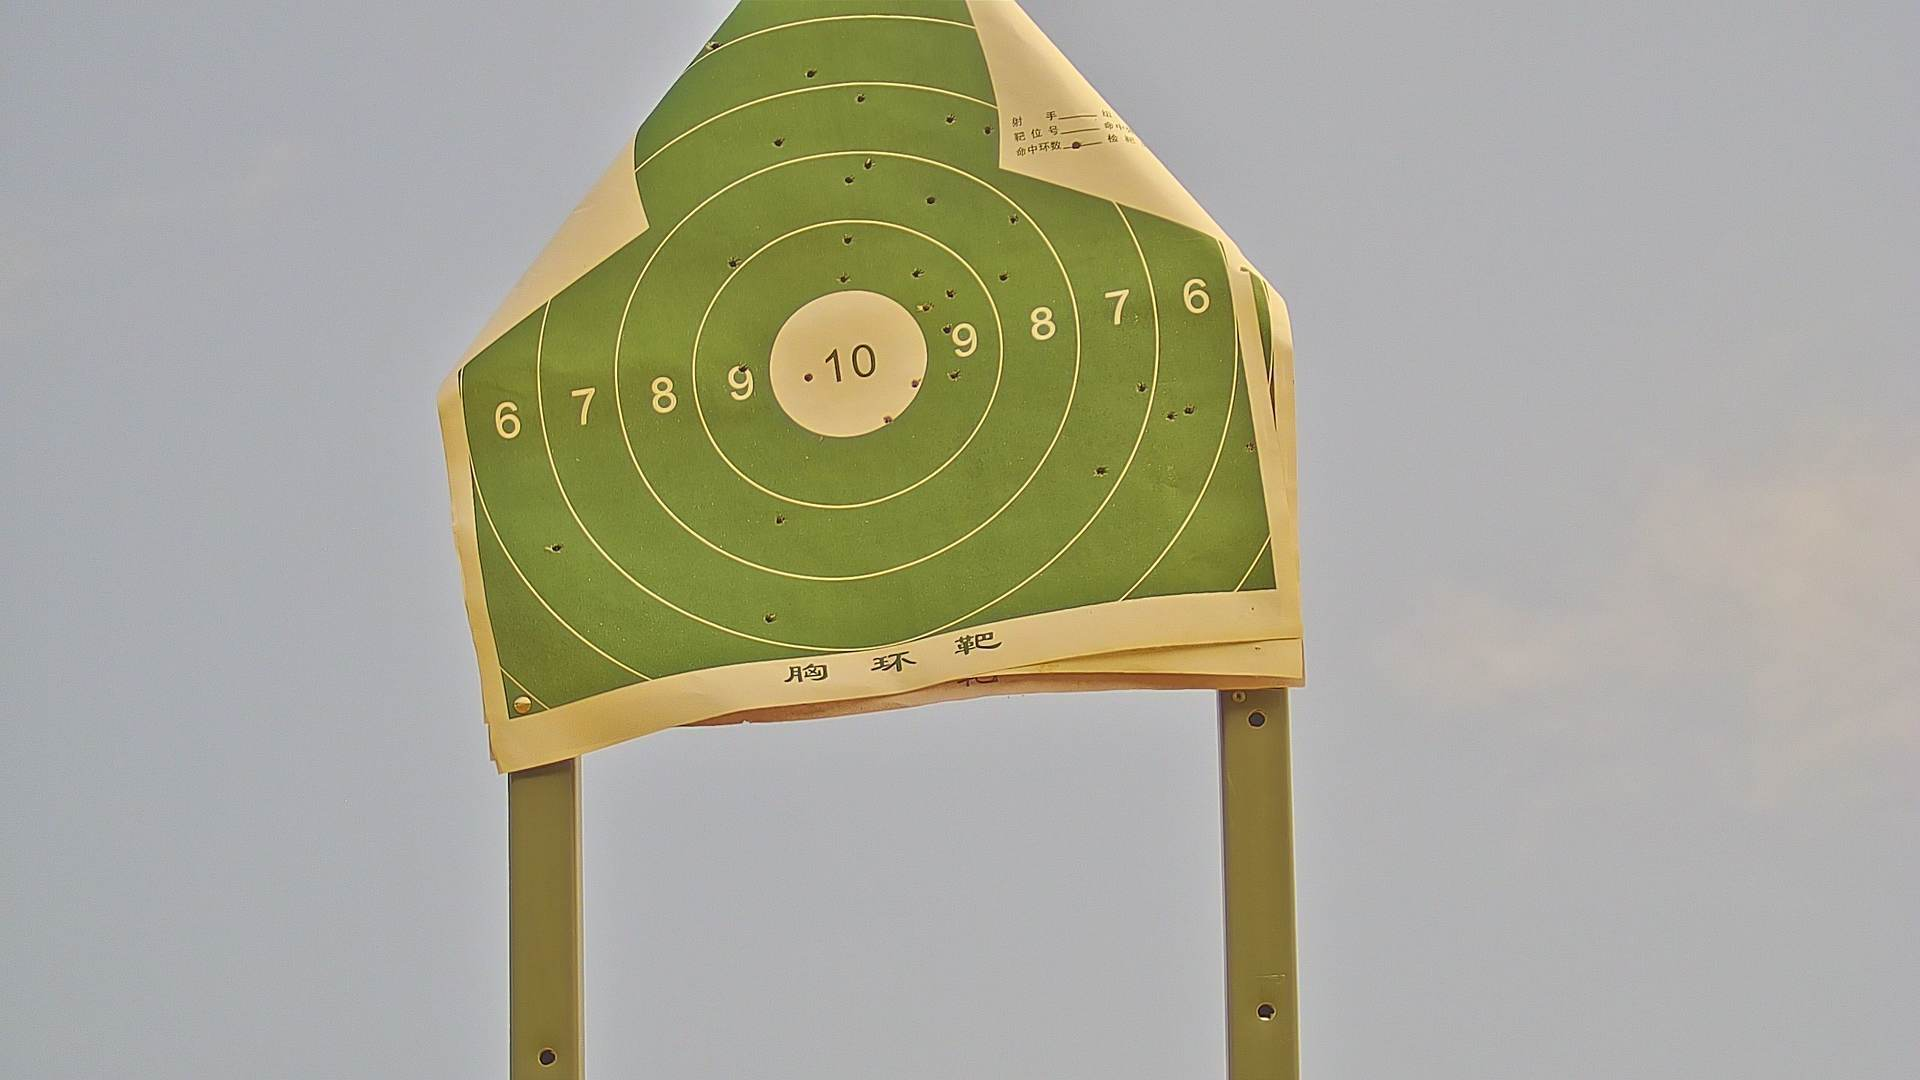hole: (800, 65, 823, 84), (852, 88, 872, 109), (735, 360, 757, 378), (771, 131, 789, 154), (831, 272, 855, 289), (704, 37, 727, 54), (1162, 405, 1178, 429), (919, 191, 938, 211), (996, 268, 1015, 286), (1240, 436, 1255, 459), (942, 284, 960, 302), (545, 539, 564, 556), (978, 117, 994, 137), (839, 169, 858, 185), (918, 298, 934, 318), (1004, 211, 1025, 225), (725, 255, 742, 272), (945, 109, 961, 128), (860, 153, 876, 171), (843, 229, 857, 249), (909, 264, 924, 281), (945, 367, 963, 382), (1182, 400, 1196, 418), (1093, 463, 1106, 483), (880, 411, 895, 427), (1134, 378, 1149, 396), (767, 512, 787, 524), (940, 320, 953, 338), (762, 609, 775, 626), (909, 375, 922, 390), (799, 368, 814, 381)
kernel: (844, 363, 847, 365)
target: (459, 7, 1282, 719)
ten: (766, 291, 930, 442)
